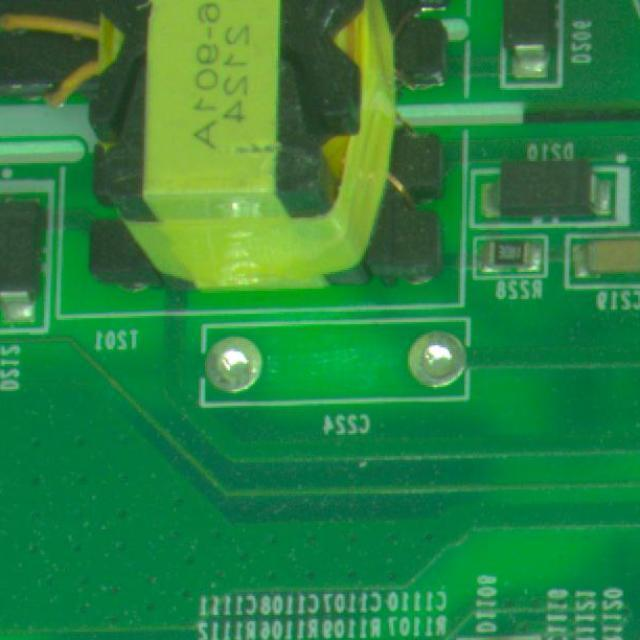Insufficient solder: (188, 332, 277, 402), (398, 318, 472, 400)
